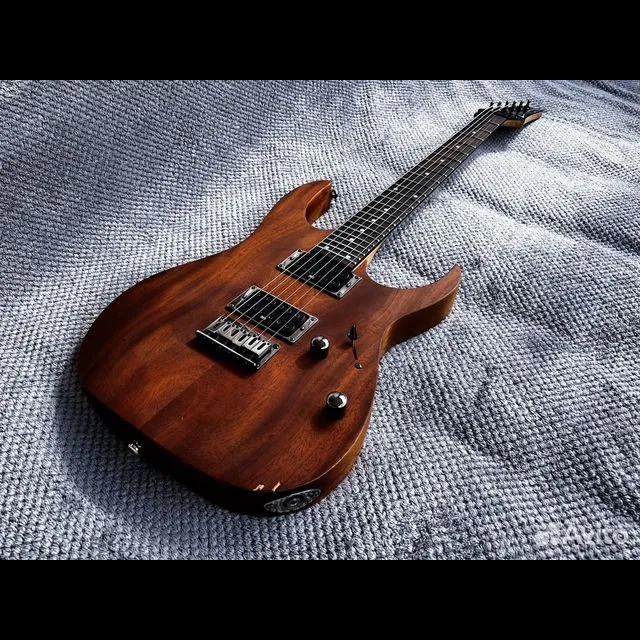Electric-Guitar: (76, 100, 546, 516)
